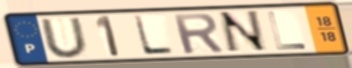1: (94, 14, 123, 58)
L: (132, 14, 177, 56), (265, 10, 310, 51)
N: (216, 9, 271, 55)
R: (170, 12, 226, 56)
U: (38, 16, 92, 60)
